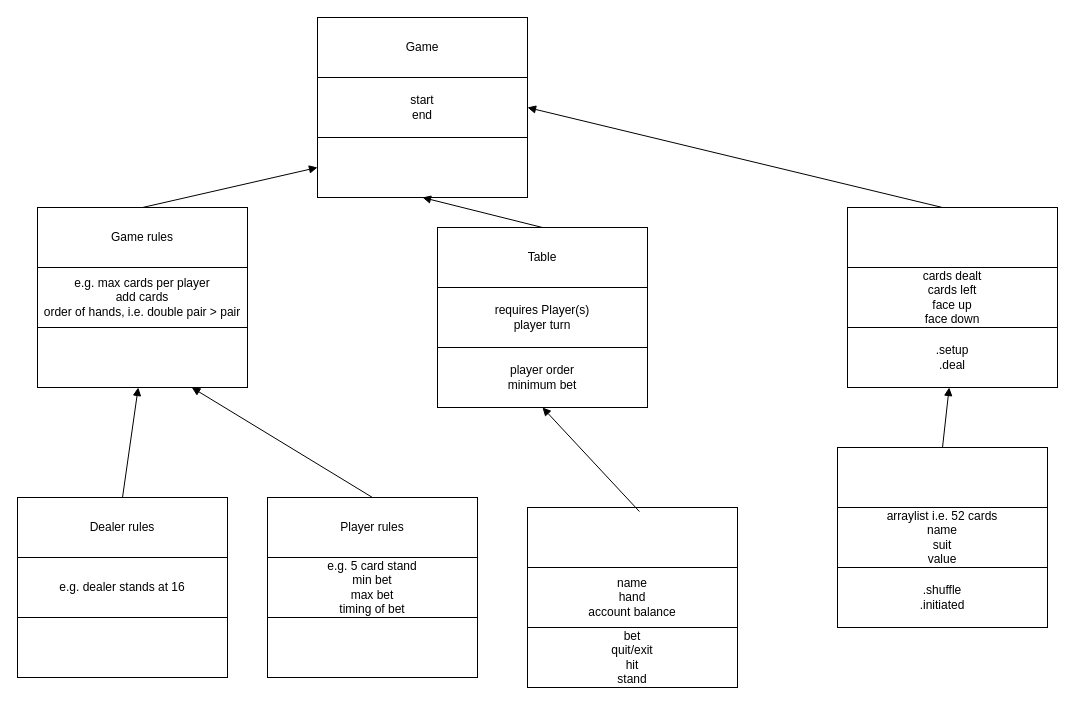
This 1075x705 diagram has some shape labels left out. Each missing label, with the box of its shape:
.winner: (36, 326, 248, 388)
Cards: (846, 206, 1058, 268)
Deck: (836, 446, 1048, 508)
Player: (526, 506, 738, 568)
requires table requires game rules requires cards.setup: (316, 136, 528, 198)
